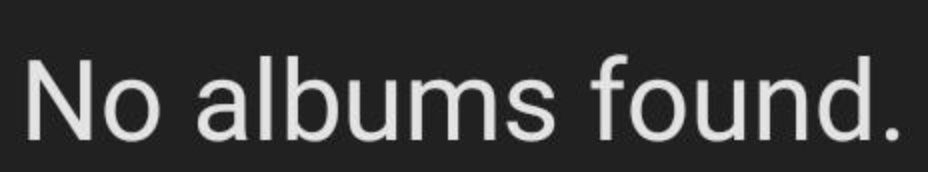TextView: (1, 1, 927, 171)
